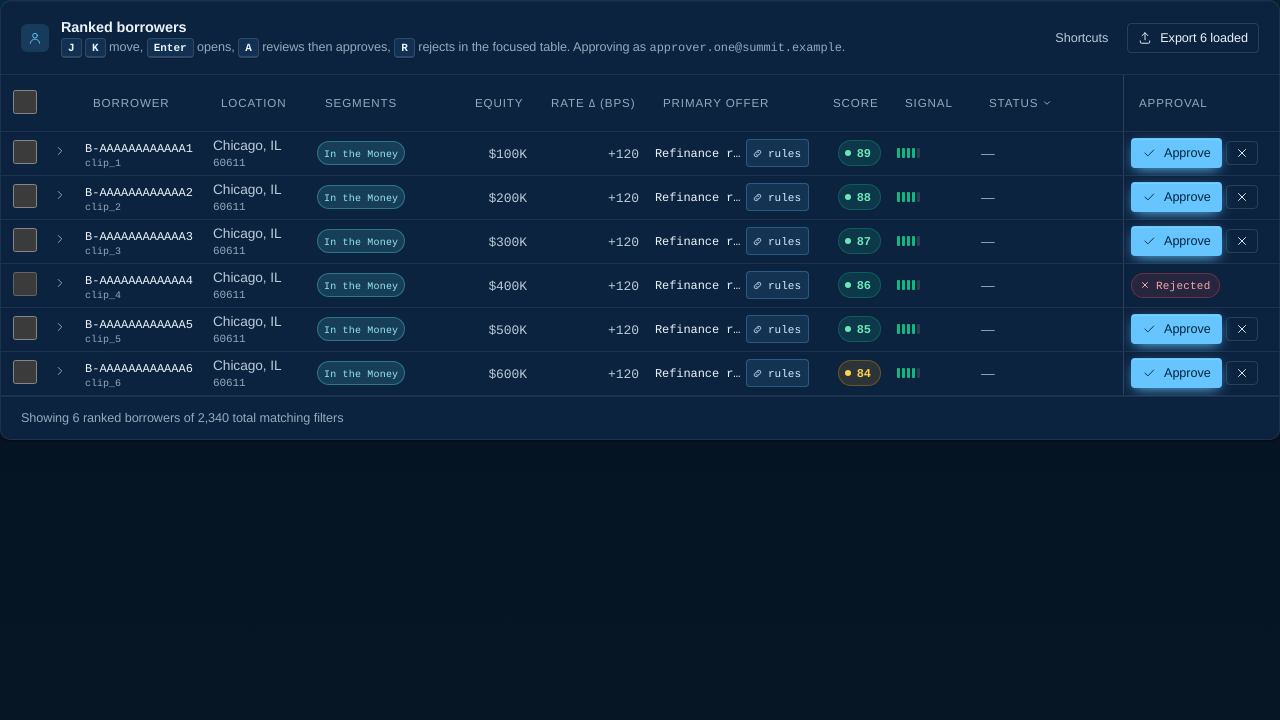
Test case: LeadTable range selection and the on-screen selection › the scope line and the campaign handoff (tables-07 / tables-02) › offers no "select all N matching" control anywhere (the 12.4 #9 ruling)
The image size is (1280, 720).
Click the checkbox with test id "lead-select-all".
click(25, 102)  # box x1=13 y1=90 x2=37 y2=114
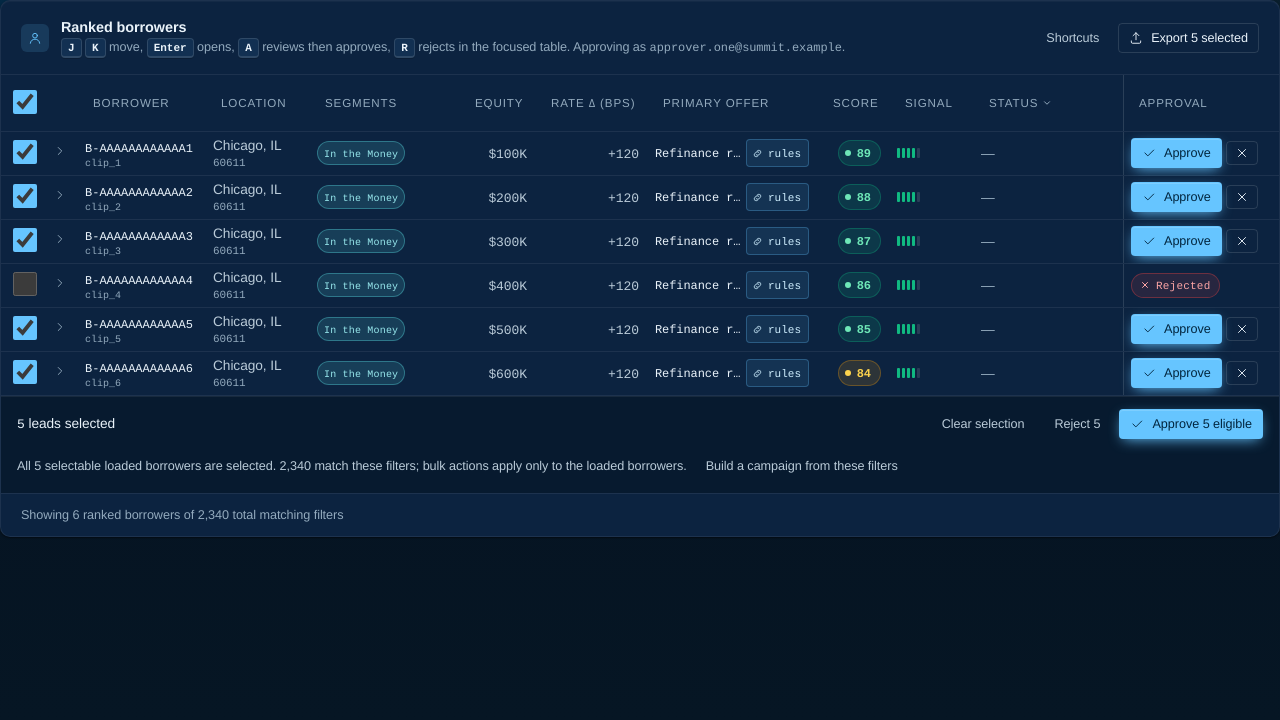
Result: the link with test id "lead-bulk-campaign-handoff" is shown at x1=706 y1=458 x2=898 y2=474
